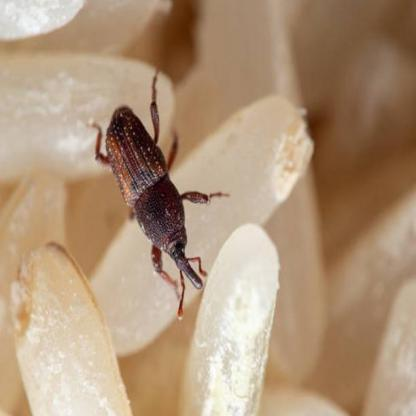rice-bug: (104, 101, 212, 291)
